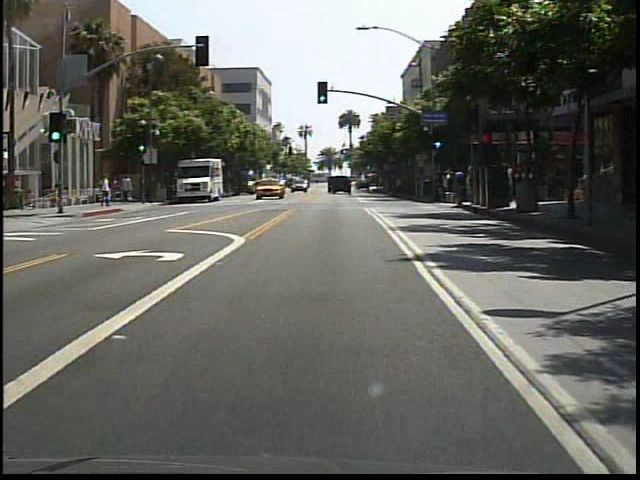person: (121, 172, 136, 205), (100, 173, 113, 208), (111, 175, 123, 204), (48, 185, 63, 208)
